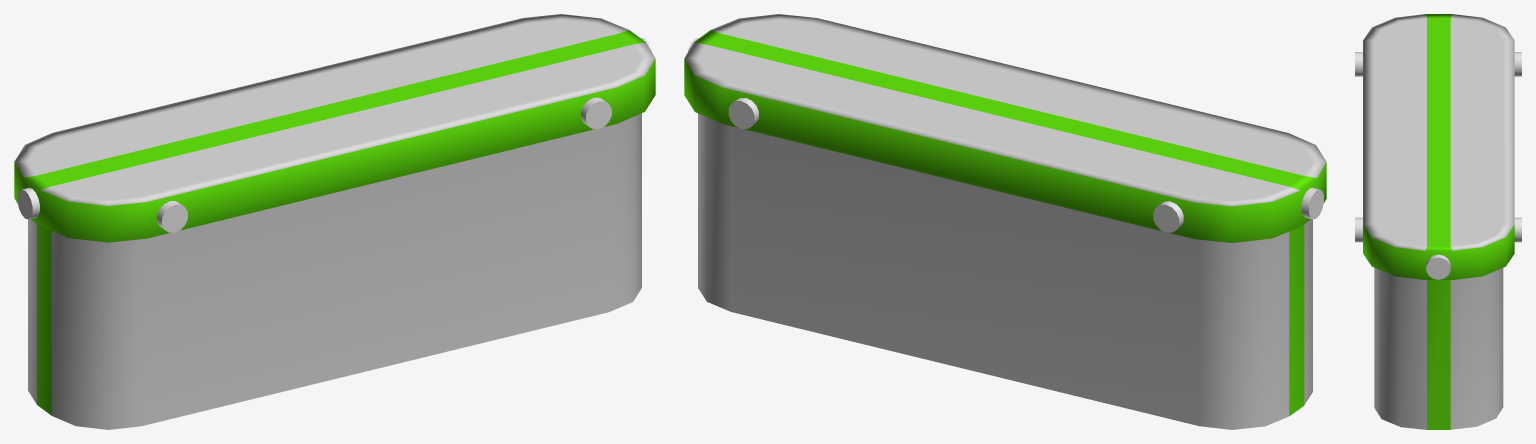
The model's file is StartEnd.fbx.
3 renders of one model, left to right at view 1: azimuth 30°, elevation 25°; view 2: azimuth 150°, elevation 25°; view 3: azimuth 270°, elevation 25°, orthographic. The views are drawn at different scales.
Visible parts, largest first — view 1: StartEnd; view 2: StartEnd; view 3: StartEnd.
Boxes of the visible parts, left/top/right/bottom form: StartEnd: left=14, top=14, right=655, bottom=429; StartEnd: left=684, top=14, right=1326, bottom=429; StartEnd: left=1355, top=14, right=1521, bottom=429.
Size of the model in its own units: 13.11 by 4.64 by 3.81.
